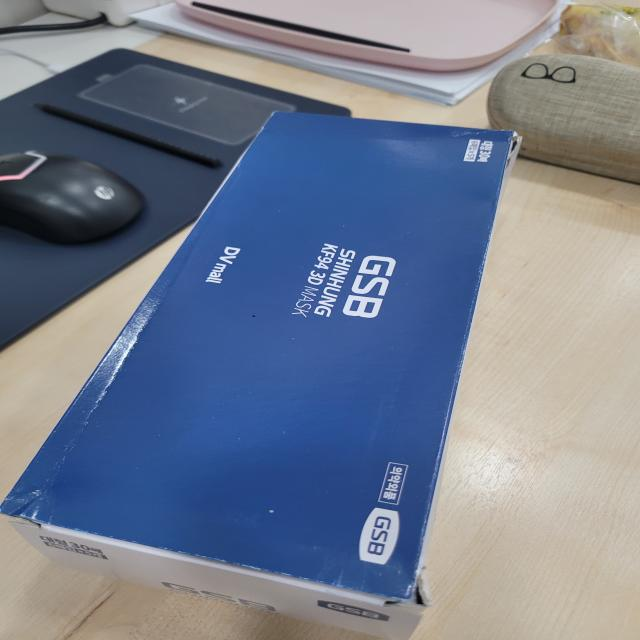mask: (0, 97, 515, 640)
